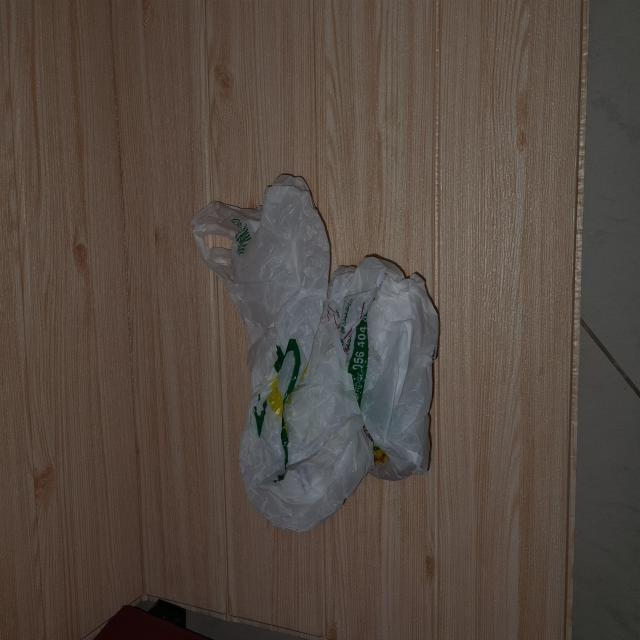plastic bag: (191, 170, 440, 537)
